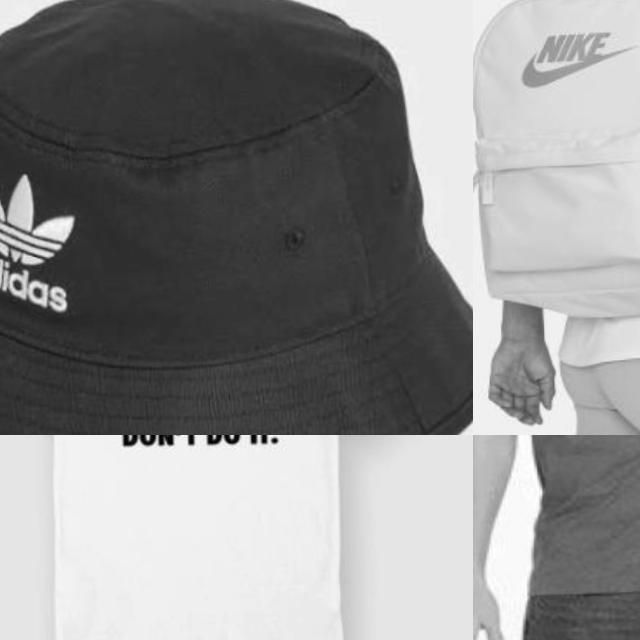ADIDAS_original: (0, 146, 83, 323)
NIKE_original: (508, 21, 640, 90)
